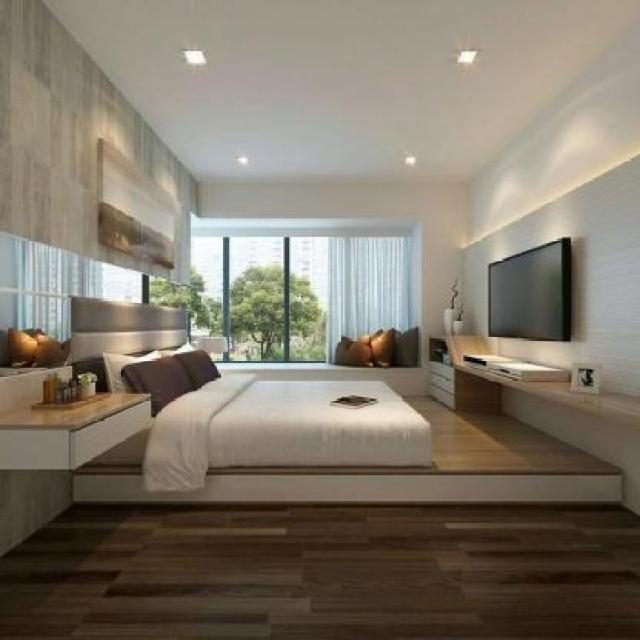Floor: (23, 504, 639, 588), (208, 398, 622, 473)
